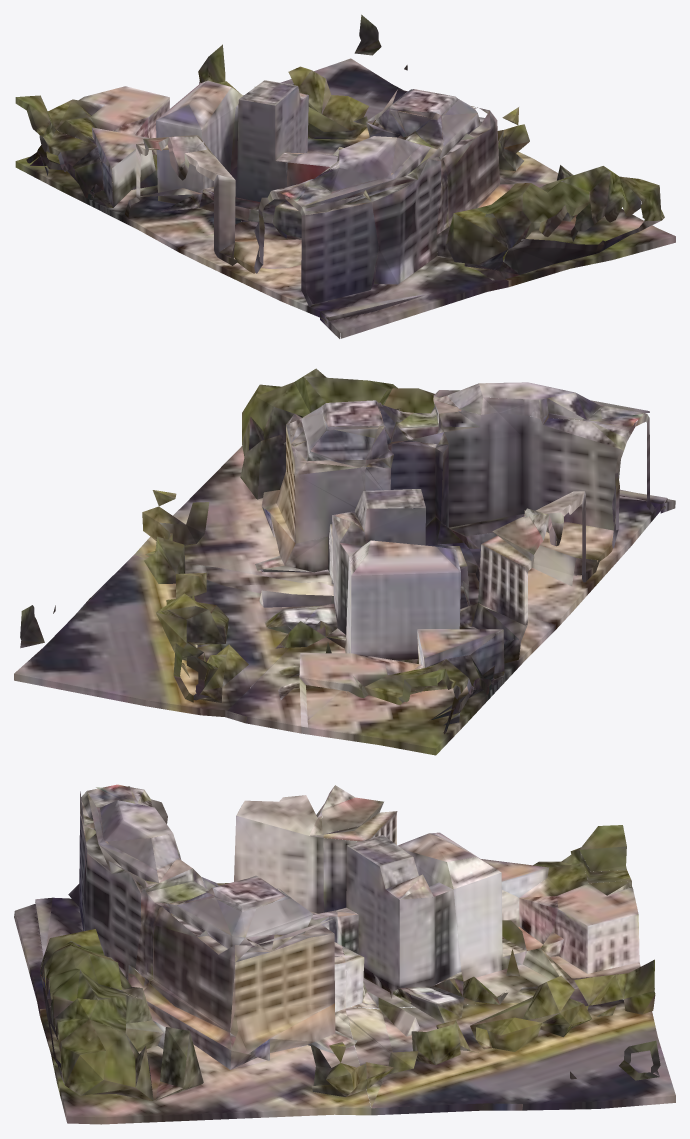
3 renders of one model, top to bottom at view 1: azimuth 30°, elevation 25°; view 2: azimuth 150°, elevation 25°; view 3: azimuth 270°, elevation 25°, orthographic. The views are drawn at different scales.
Parts seen in each view (by area): view 1: Mesh_0; view 2: Mesh_0; view 3: Mesh_0.
Boxes of the visible parts, <box> form: Mesh_0: <box>15,14,675,338</box>; Mesh_0: <box>14,368,675,755</box>; Mesh_0: <box>14,784,675,1124</box>.
Size of the model in its own units: 134 by 45.17 by 165.
Materials: 2 (2 with a texture image).
